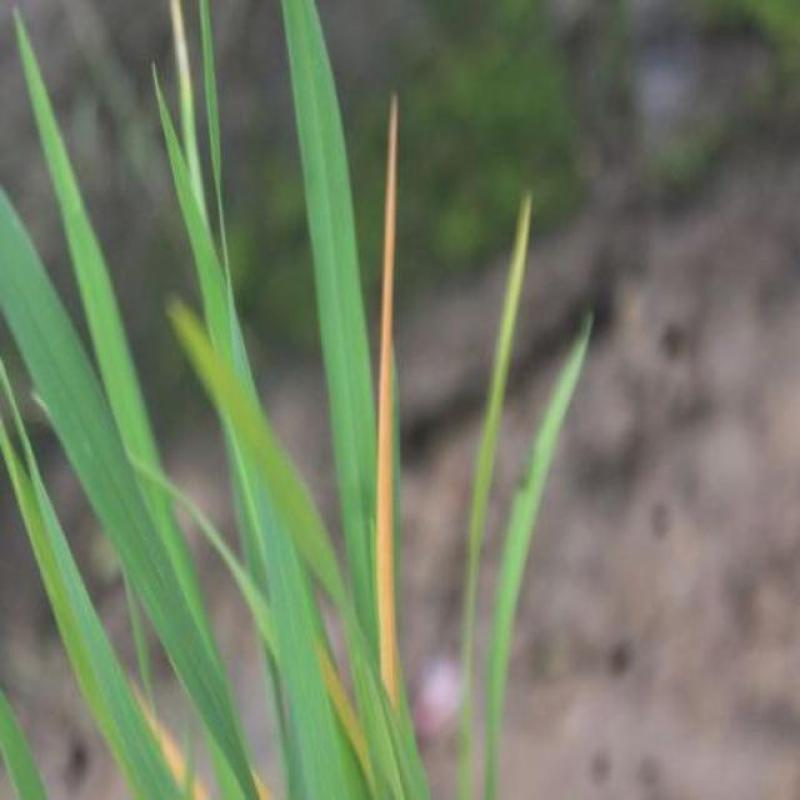Rice Tungro: (353, 73, 412, 706)
